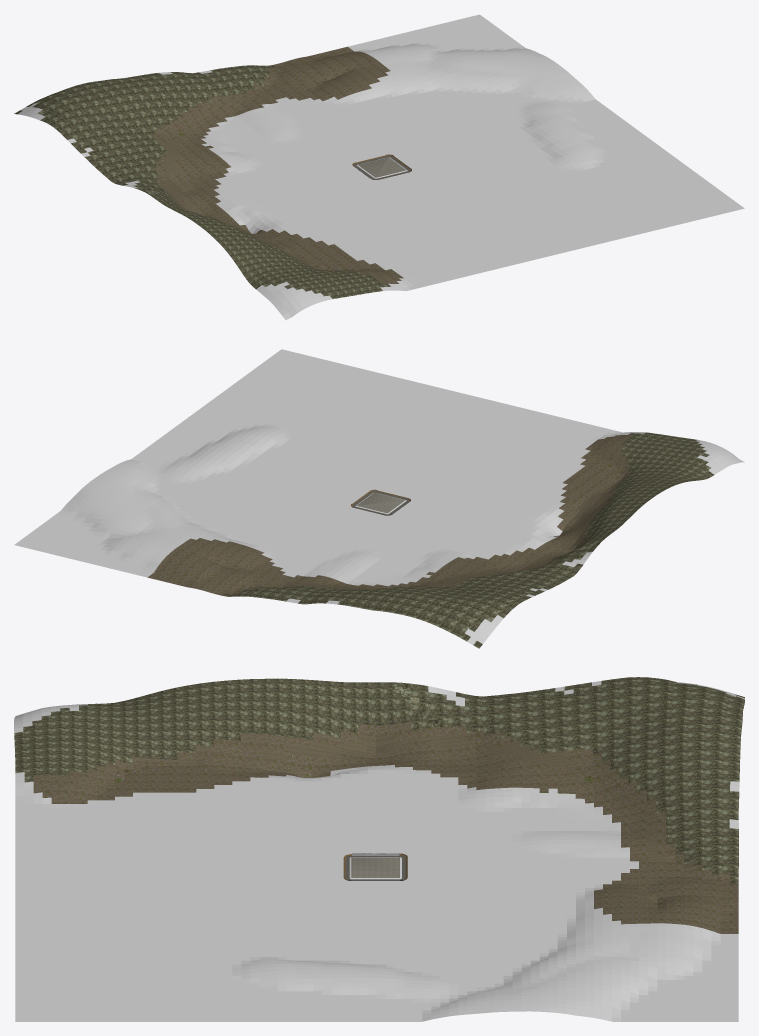
The model's file is Arena02.fbx.
3 views of the same model, one above another, from view 1: azimuth 30°, elevation 25°; view 2: azimuth 150°, elevation 25°; view 3: azimuth 270°, elevation 25° (orthographic). The views are drawn at different scales.
Parts seen in each view (by area): view 1: Grid, Arena02; view 2: Grid, Arena02; view 3: Grid, Arena02.
Boxes of the visible parts, <box> form: Grid: <box>14,14,744,320</box>; Arena02: <box>352,154,411,179</box>; Grid: <box>14,349,744,648</box>; Arena02: <box>351,489,410,515</box>; Grid: <box>14,677,744,1021</box>; Arena02: <box>343,853,407,880</box>.
Size of the model in its own units: 80994 by 7082 by 81091.
